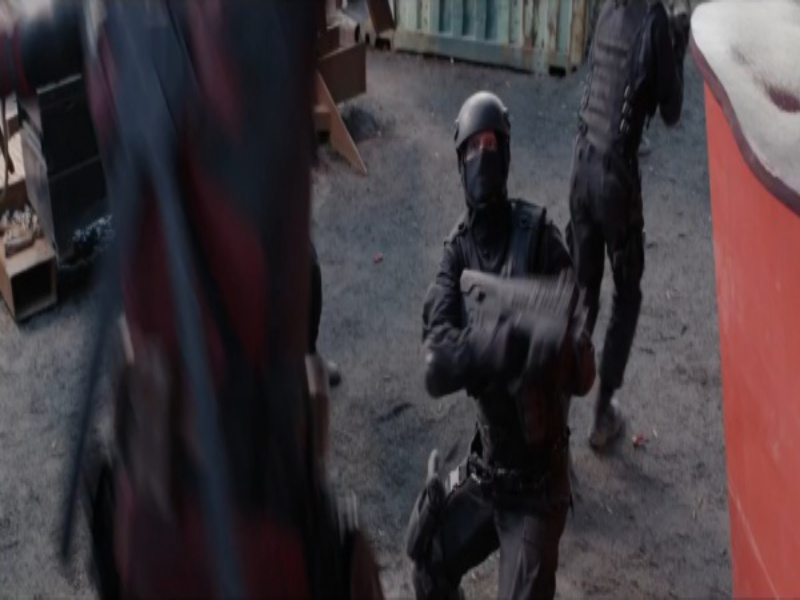person: (64, 7, 383, 597), (432, 93, 556, 596), (564, 2, 688, 438)
weapon: (462, 272, 589, 363)
